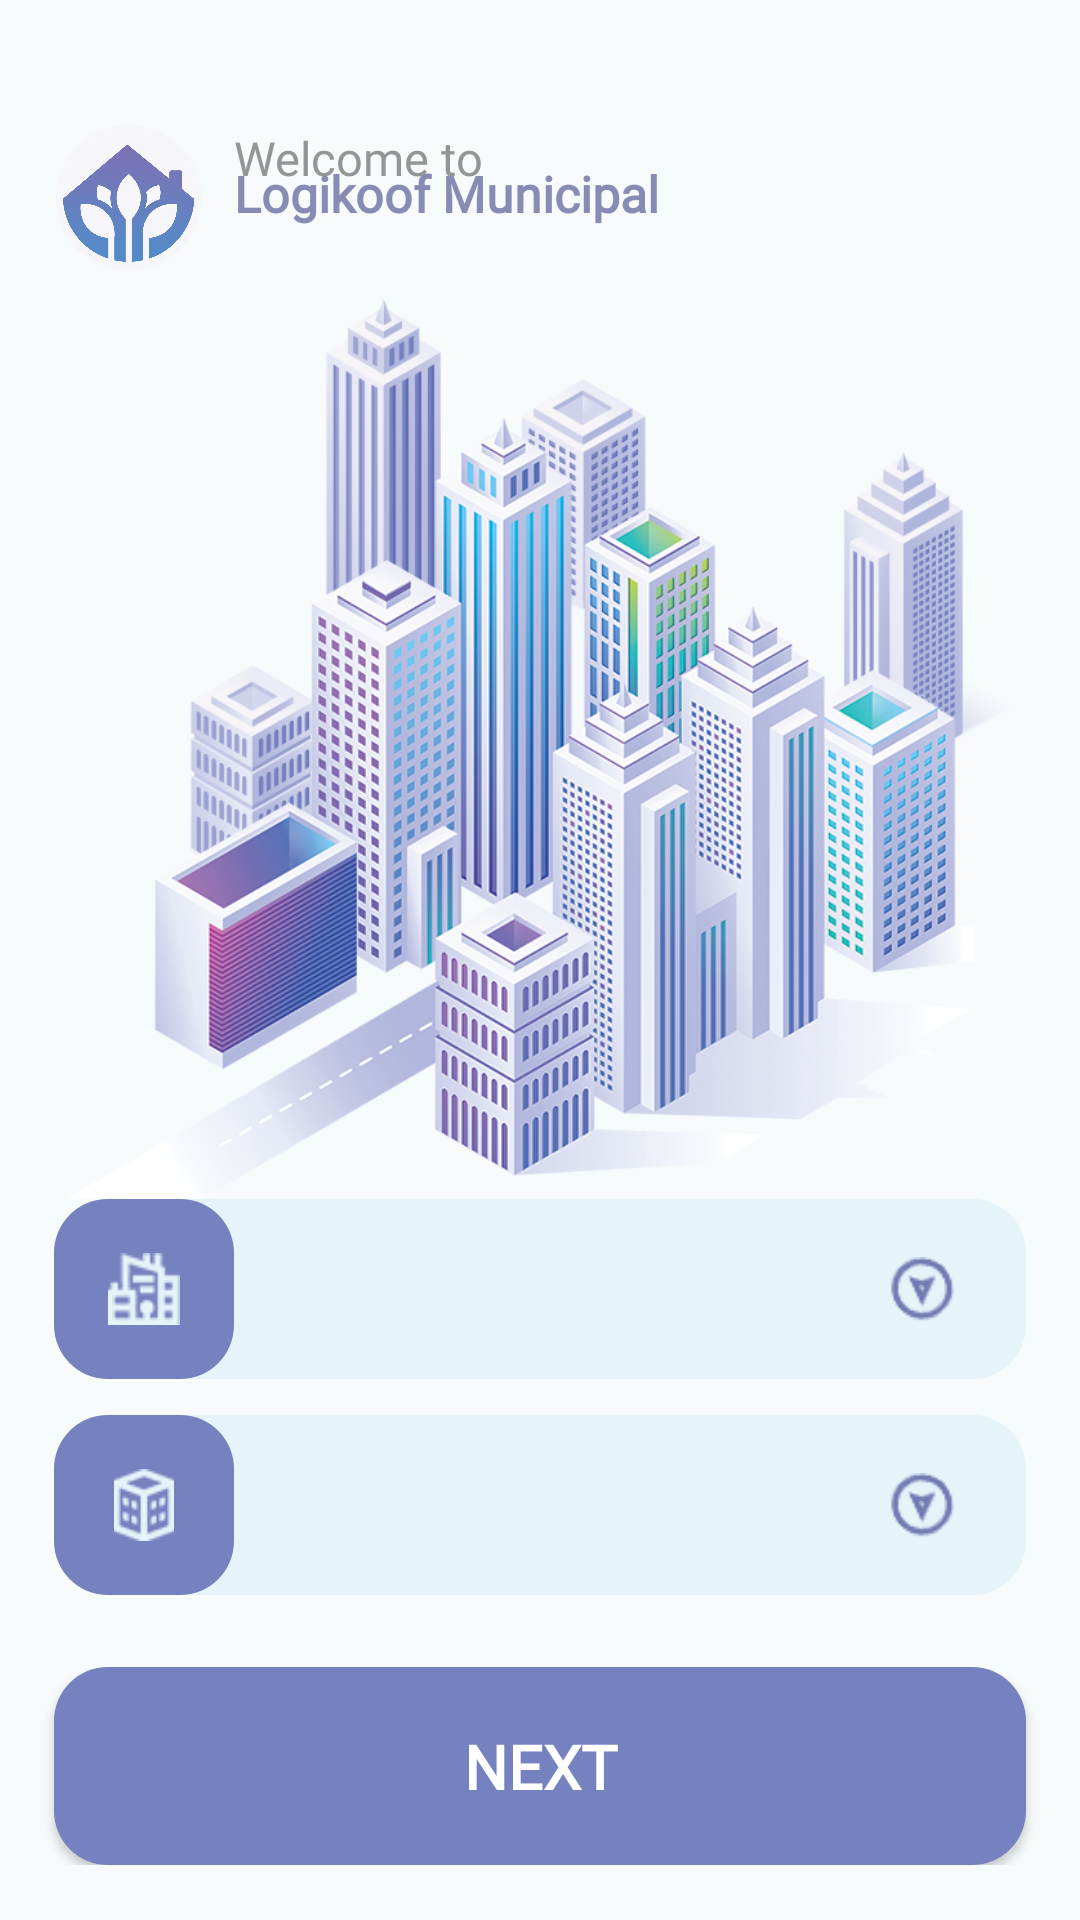

Icon bounding boxes for this 1080×1920 phone screenshot, format Rect(x1, y1, x2, y2):
dropdown: Rect(891, 1257, 954, 1320), Rect(891, 1473, 954, 1536)
municipal: Rect(114, 1469, 174, 1541)
state: Rect(108, 1253, 180, 1325)
